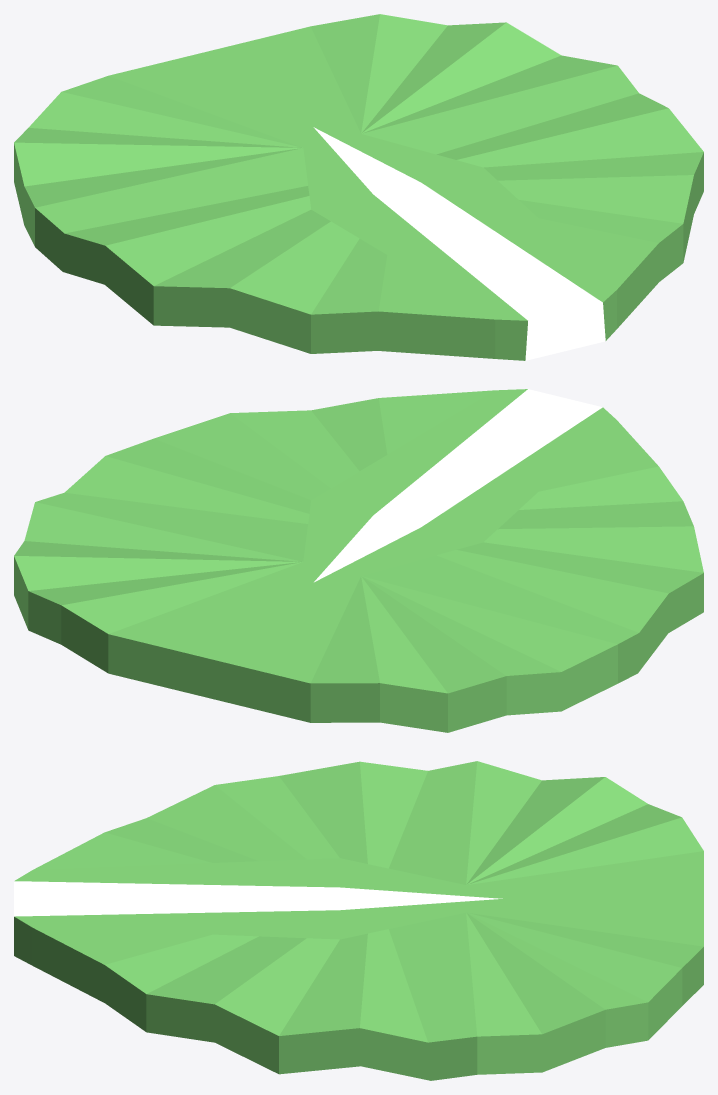
The model's file is salad.fbx.
The picture shows the model from 3 angles, top to bottom: view 1: azimuth 30°, elevation 25°; view 2: azimuth 150°, elevation 25°; view 3: azimuth 270°, elevation 25°; orthographic projection. The views are drawn at different scales.
Parts seen in each view (by area): view 1: Salad; view 2: Salad; view 3: Salad.
Boxes of the visible parts, x1,y1,x2,y2 form: Salad: (14, 14, 703, 360); Salad: (14, 389, 703, 732); Salad: (14, 761, 703, 1080).
Bounding box in the file's own units: 200 × 17.89 × 212.
